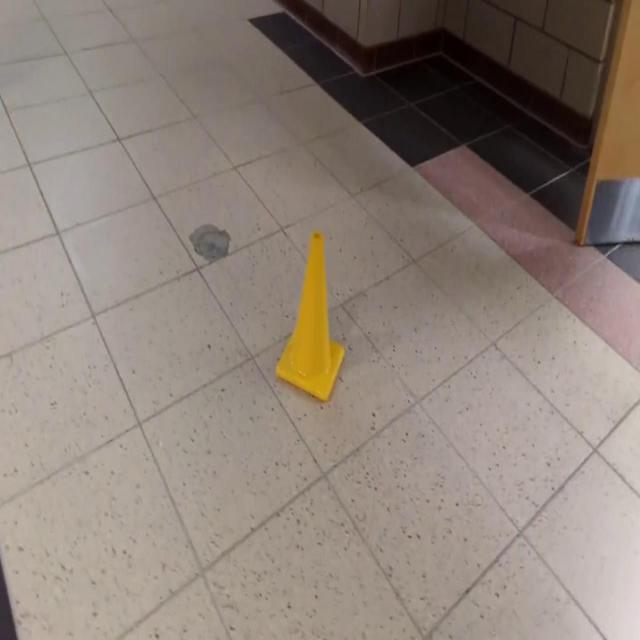frc_cone: (277, 230, 345, 406)
